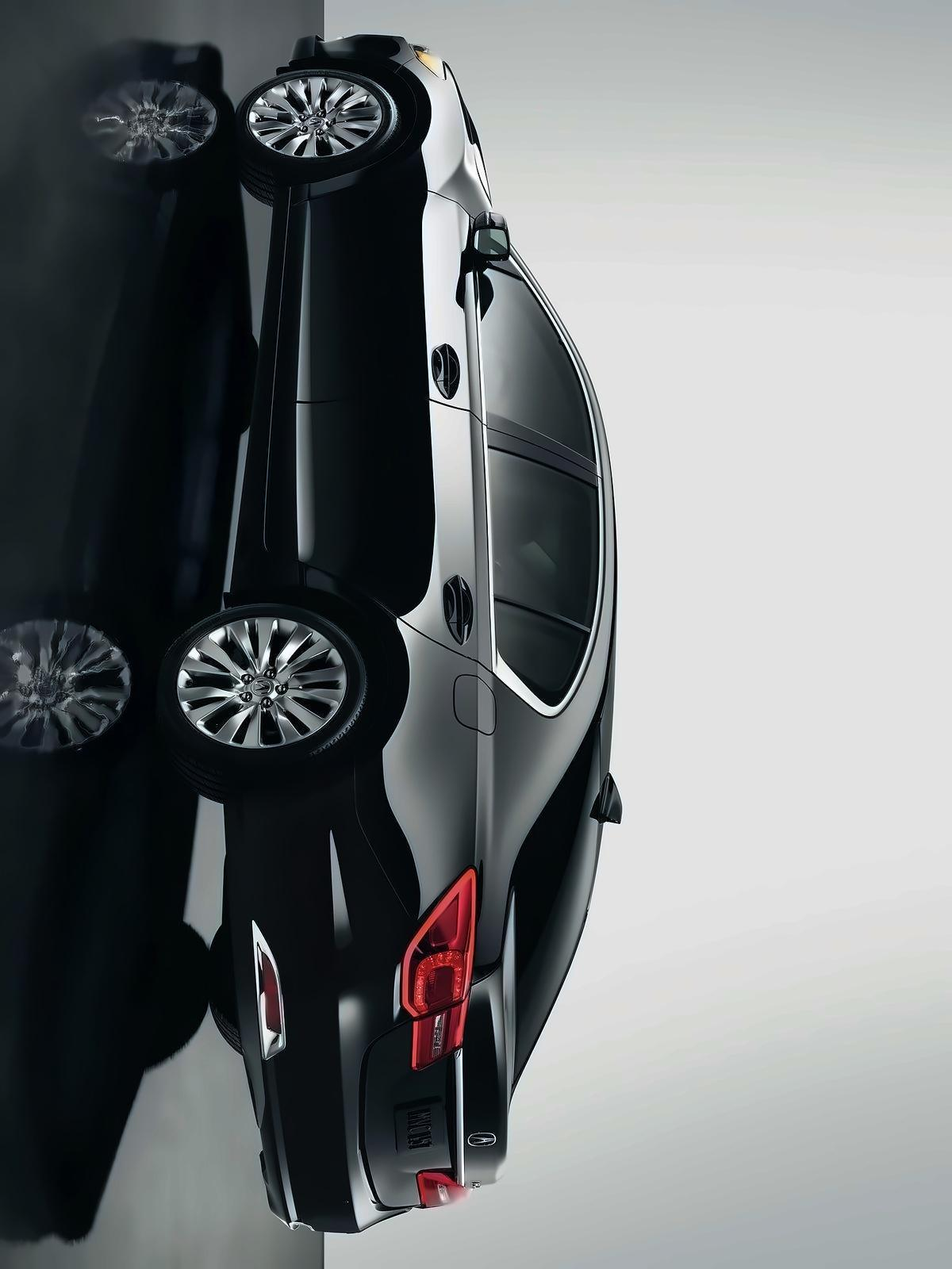Car boot: (361, 946, 520, 1233)
Fender - -F-L-: (345, 42, 522, 266)
Fender - -R-L-: (282, 545, 550, 900)
Front bumper: (276, 22, 414, 95)
Headlight - -L-: (388, 867, 484, 1075)
Passenger-s door - -F-L-: (216, 169, 624, 472)
Passenger-s door - -R-L-: (222, 387, 643, 708)
Rear bumper: (206, 777, 388, 1235)
Side bumper - -L-: (236, 161, 345, 611)
Side mirror - -L-: (452, 200, 516, 297)
